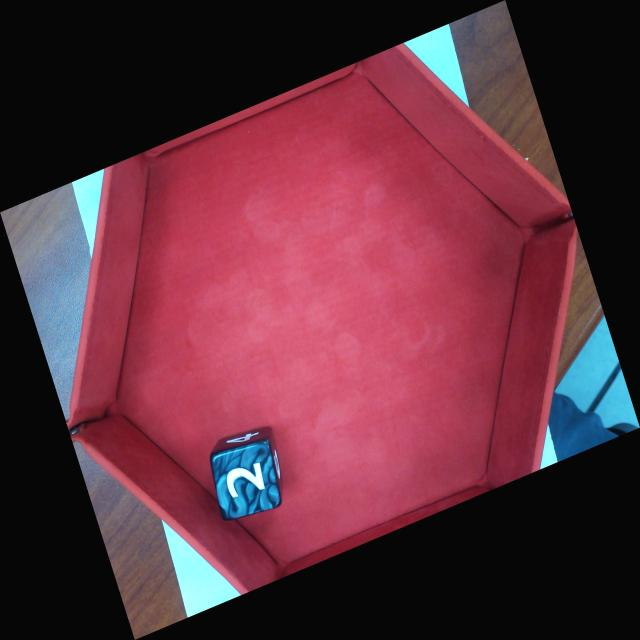dice: (215, 446, 277, 520)
